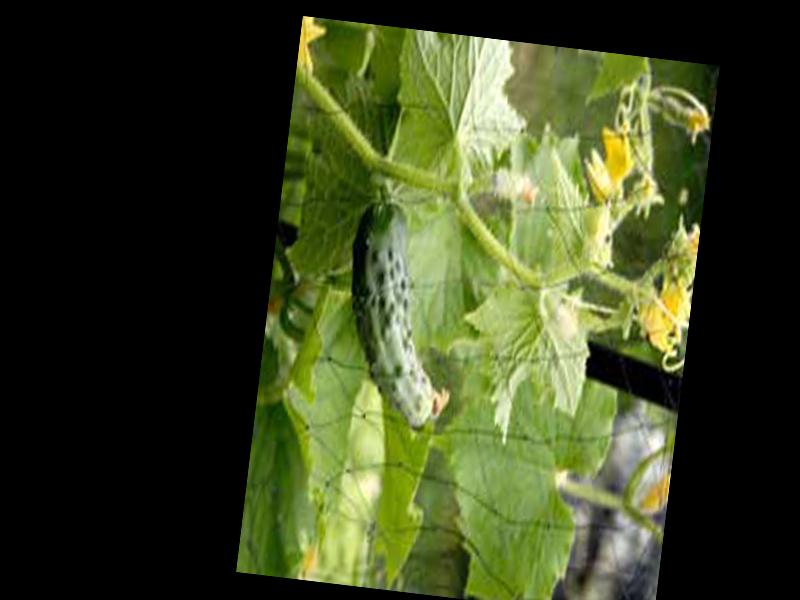Cucumber: (333, 194, 473, 433)
